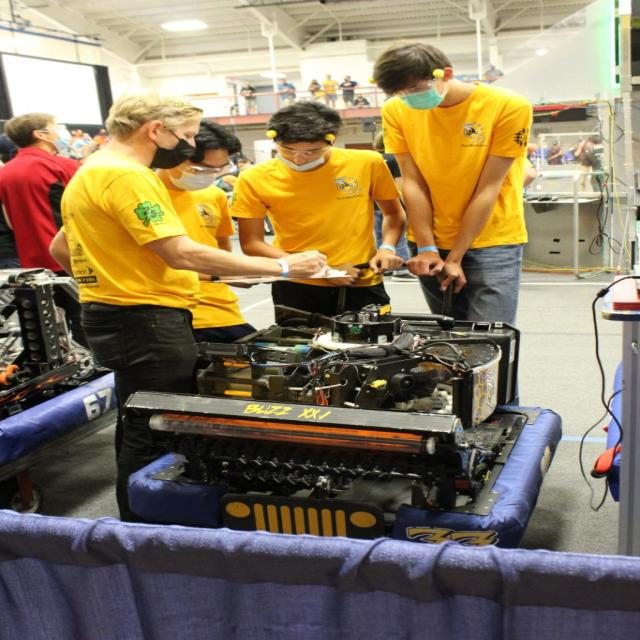robot: (121, 312, 571, 551), (1, 266, 117, 457)
